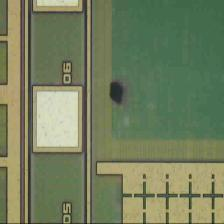PARTICLE: (108, 78, 128, 107)
